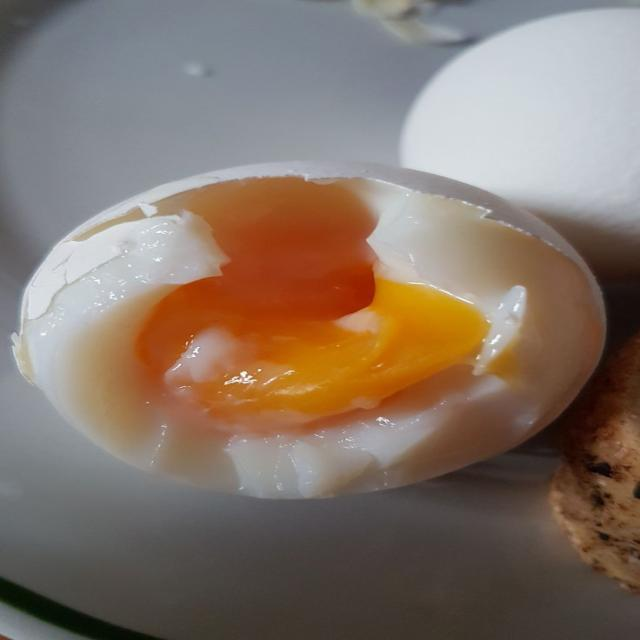egg boiled: (16, 163, 602, 497), (401, 8, 639, 278)
